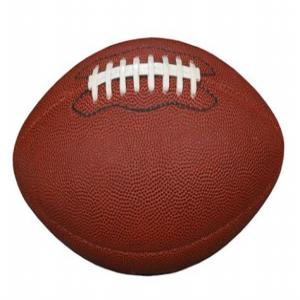Rugby: (14, 36, 285, 275)
